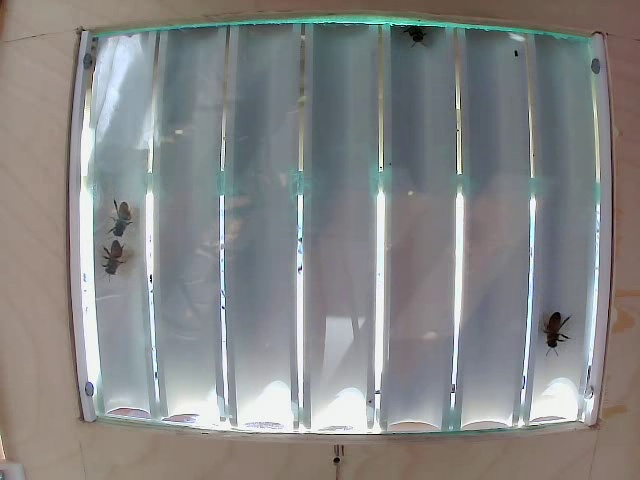bee: (534, 314, 569, 353), (103, 200, 141, 232), (98, 241, 134, 274), (400, 18, 430, 51)
